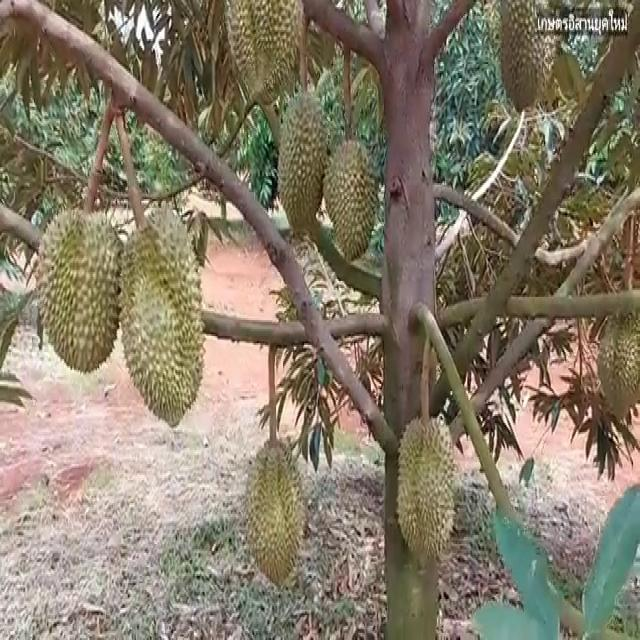durian: (115, 199, 207, 435), (27, 202, 125, 388), (392, 402, 461, 561), (243, 434, 310, 594), (272, 86, 332, 252), (218, 0, 310, 102), (320, 129, 380, 268), (494, 0, 559, 120), (590, 297, 639, 416)
